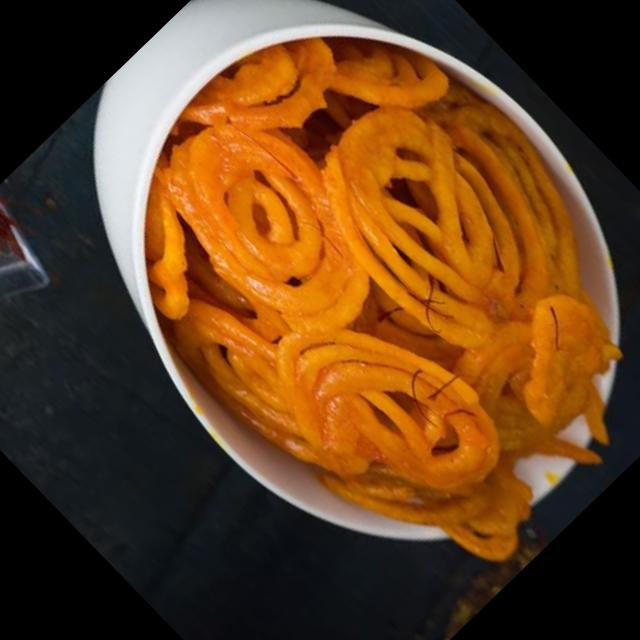jalebi: (61, 0, 640, 617)
